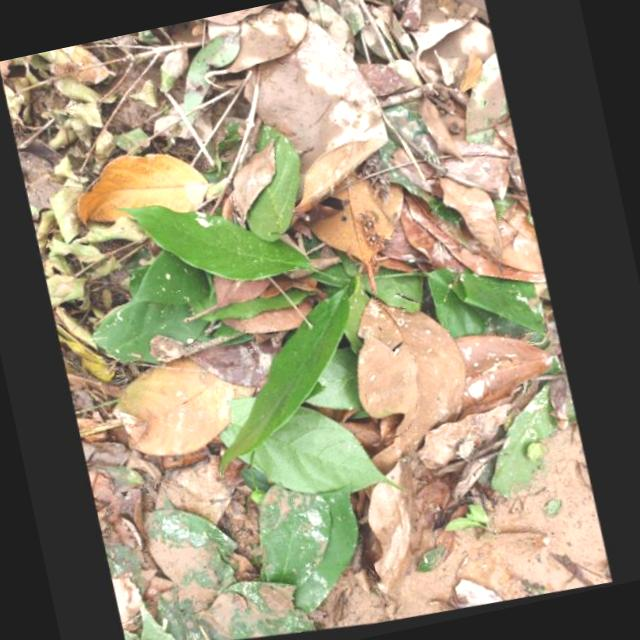la_cay: (230, 9, 394, 215), (223, 283, 360, 475), (361, 297, 469, 478), (376, 189, 545, 281), (241, 408, 407, 498), (121, 207, 317, 283), (116, 359, 262, 460), (95, 251, 221, 366), (298, 173, 408, 293), (399, 268, 537, 339), (83, 155, 215, 227), (293, 485, 360, 616), (460, 336, 554, 421), (261, 487, 332, 588), (456, 267, 548, 334), (445, 177, 509, 254), (190, 31, 248, 115), (202, 291, 322, 324), (238, 140, 281, 230), (40, 44, 119, 86), (225, 302, 317, 335), (427, 89, 468, 162), (222, 399, 260, 451), (204, 1, 283, 26), (466, 49, 490, 92)
